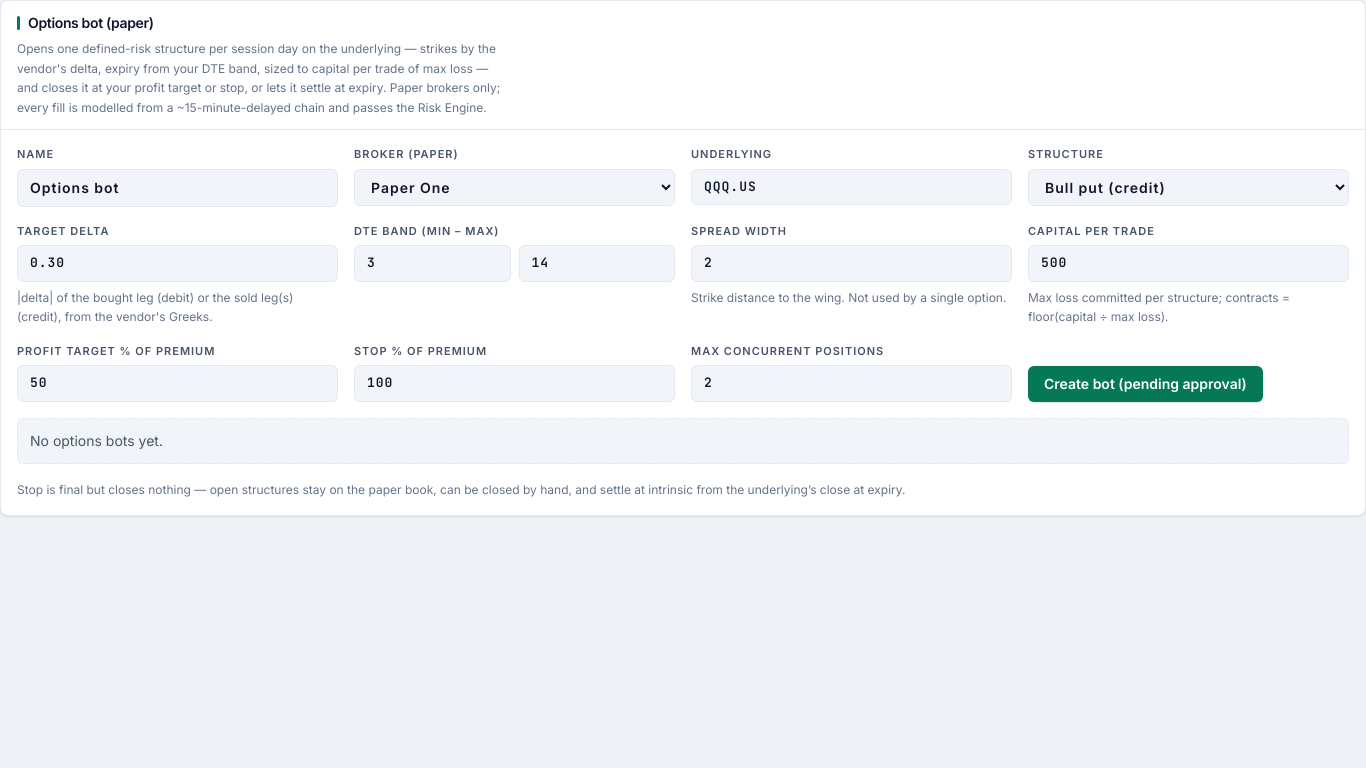
Test: OptionsBotPanel › creates with the operator's inputs and no width for a single option
Select "Long call" in the dropdown with id "ob-structure" at (1188, 187), box [1028,168,1349,206]
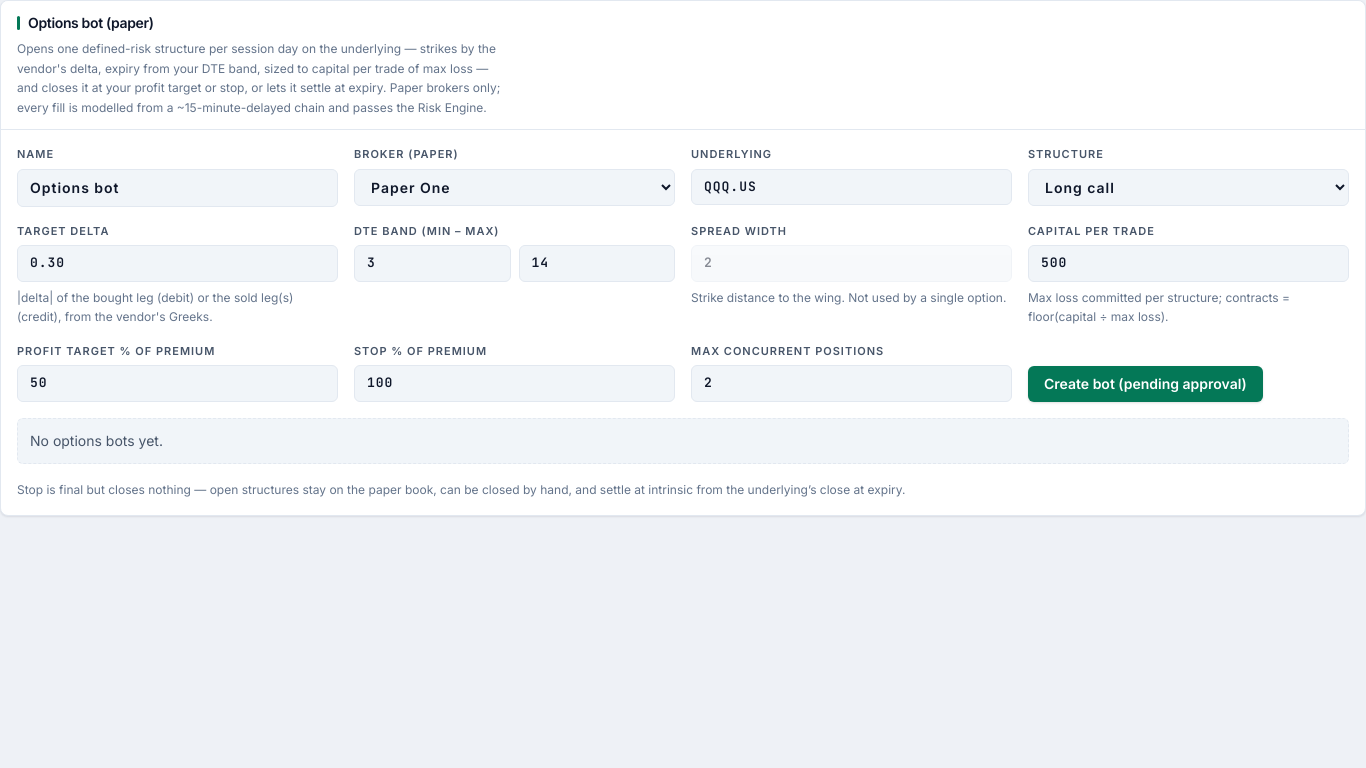
Click the button "Create bot (pending approval)".
click(1145, 384)  # box [1028,366,1263,402]
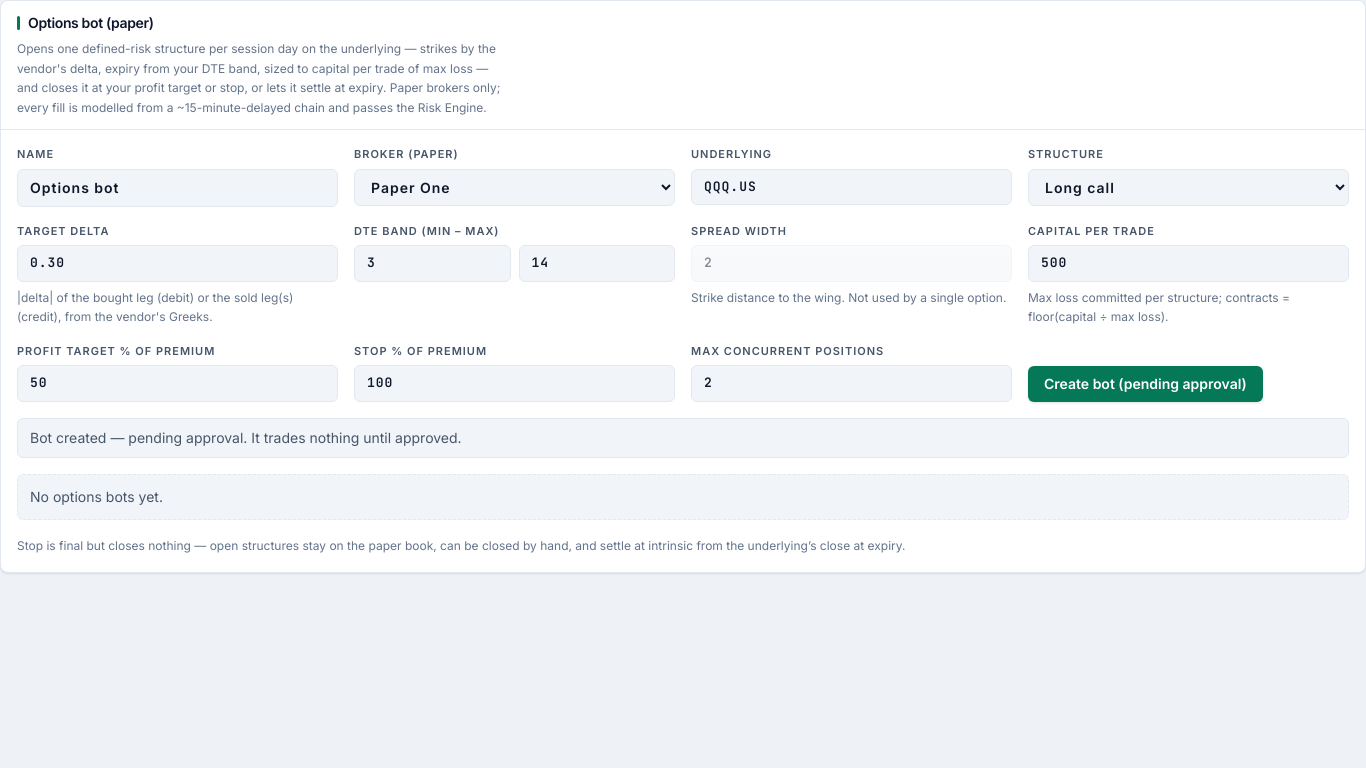
Now the text "Bot created — pending approval. It trades nothing until approved." is shown, box [17,418,1349,458]
